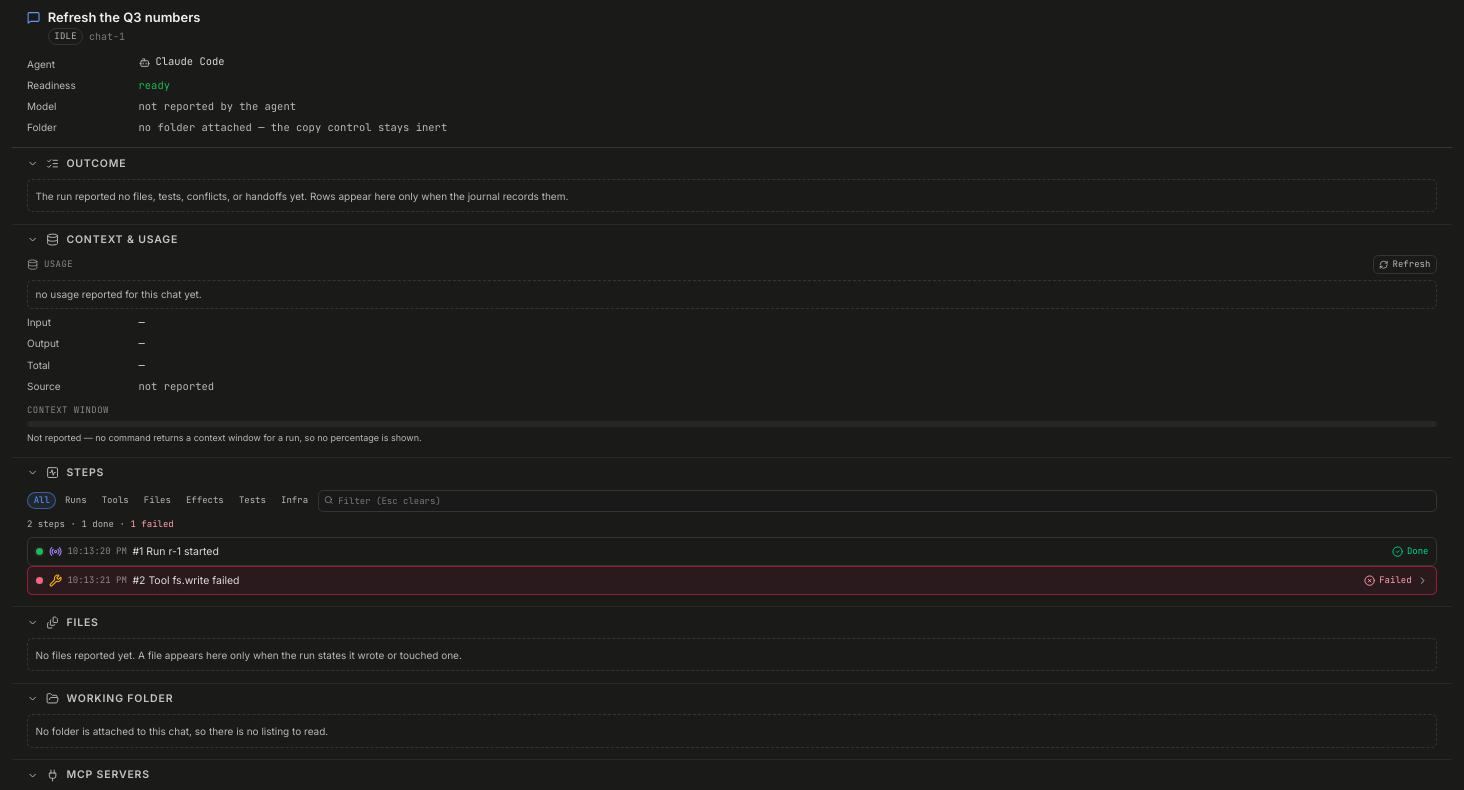
Test case: run surface — the trace never lies about status › a step expands for detail with the journal coordinates
Click the button "10:13:21 PM #2 Tool fs.write failed Failed". click: (97,580)
box: x1=28 y1=567 x2=1436 y2=594
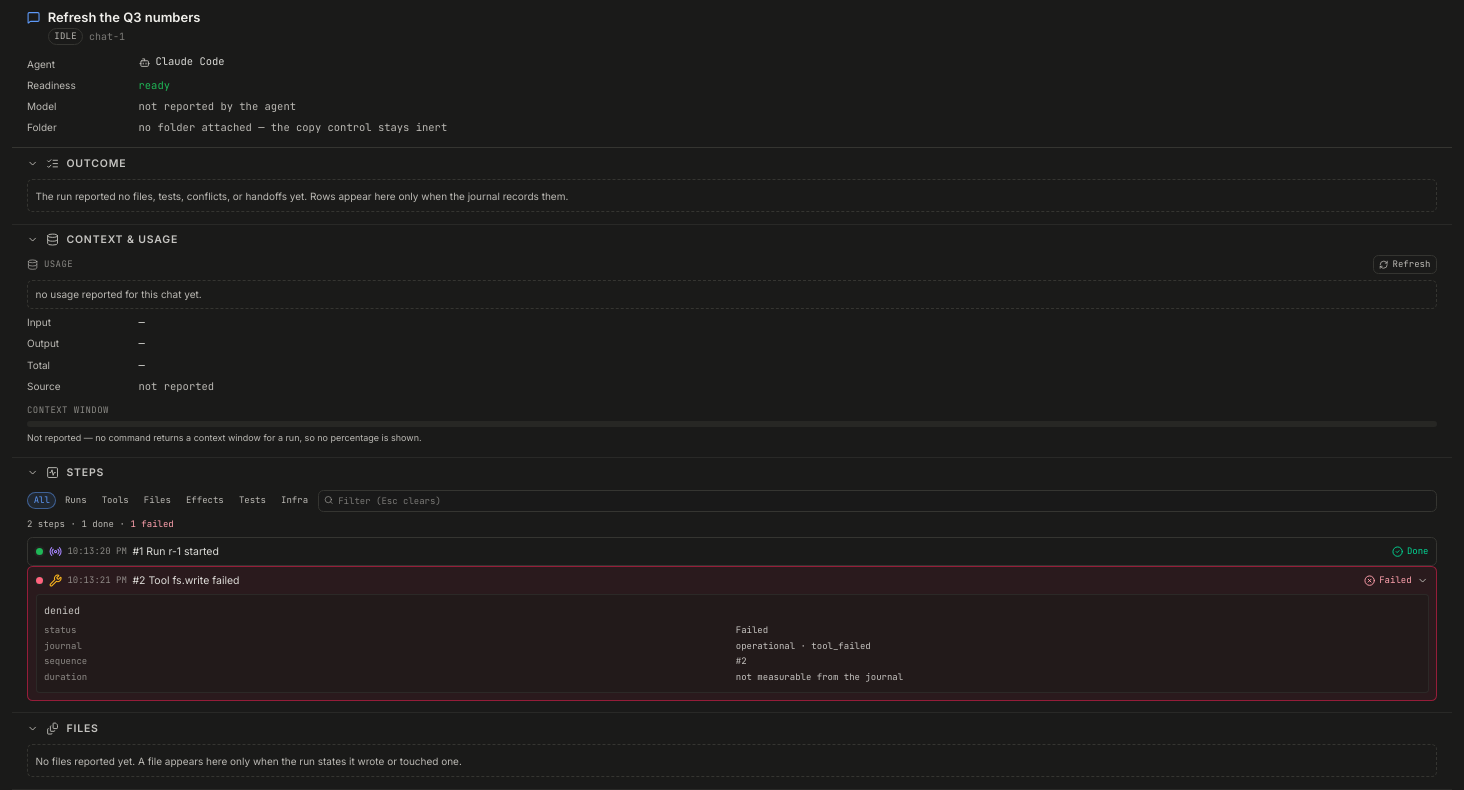
expect the text "operational · tool_failed" is shown: met, box x1=736 y1=640 x2=871 y2=652
expect the text "not measurable from the journal" is shown: met, box x1=736 y1=670 x2=903 y2=682
